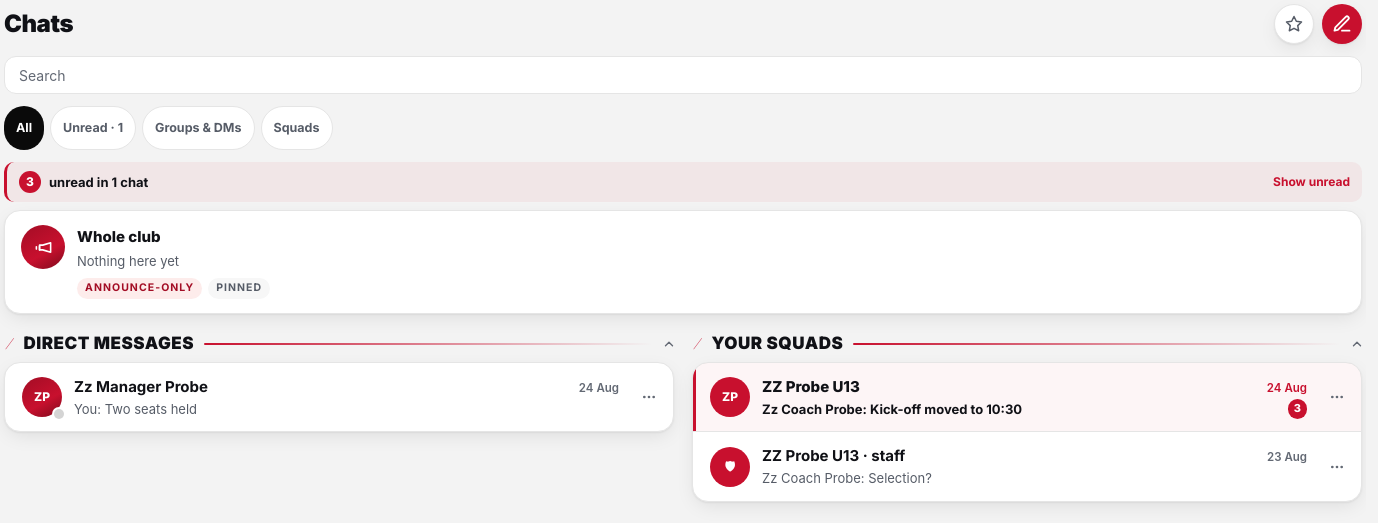
Test: ChatList › search narrows by name or last line
This screenshot has width=1378, height=523.
Step 1. Type "seats" into the search field named "Search chats" → (683, 75), box 4,56 -> 1362,94
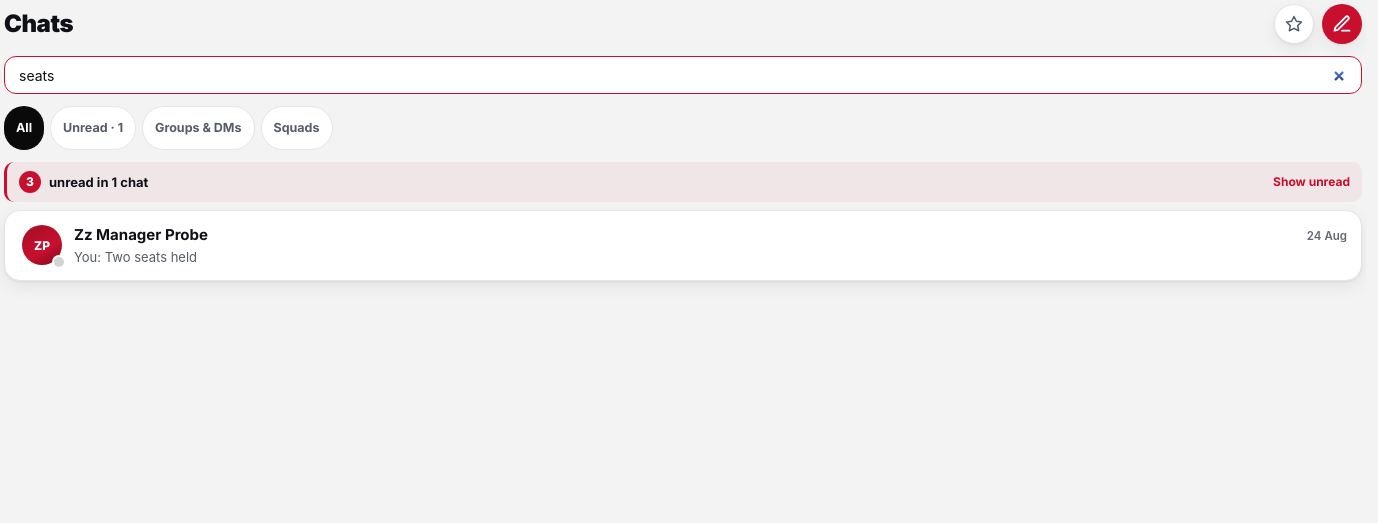
Expected: the number of links with test id "chat-row" is 1, 8,211 -> 1361,280
